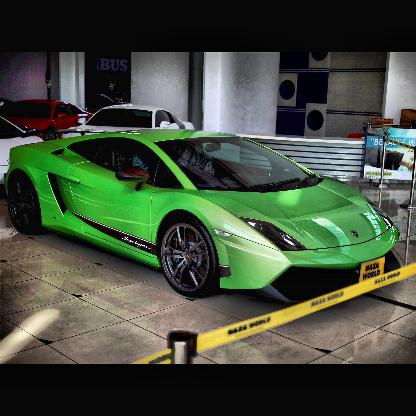Lamborghini Gallardo LP 570-4 Superleggera 2012: (7, 130, 400, 306)
